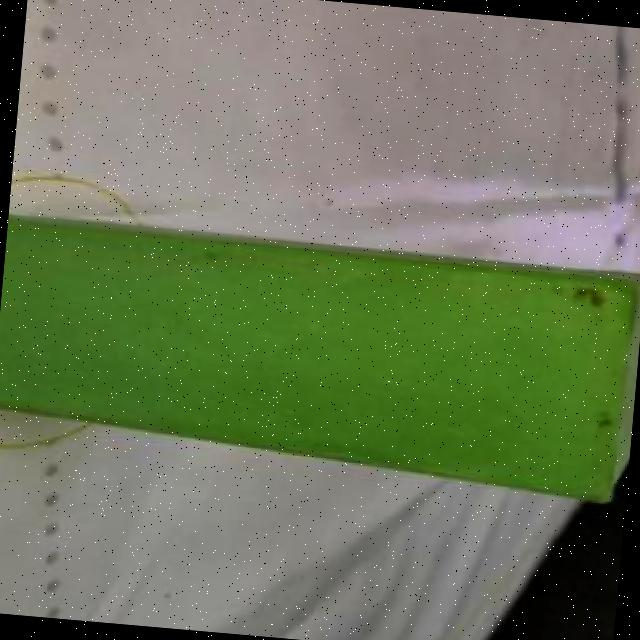greenbox: (0, 215, 640, 504)
